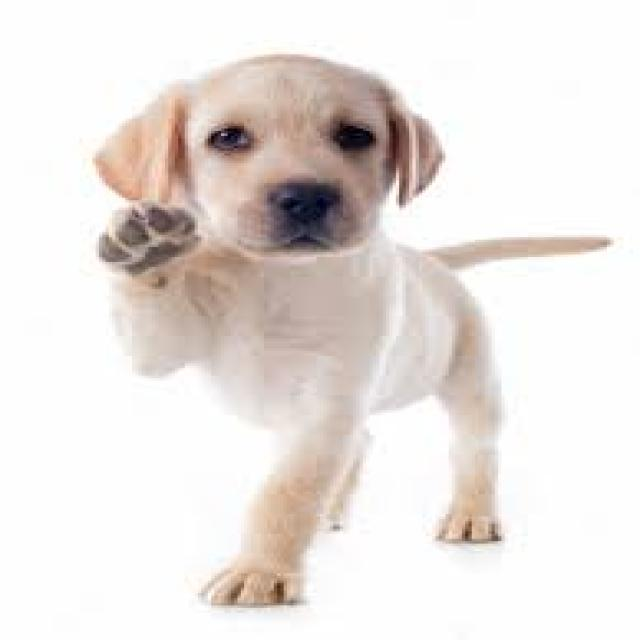Abrador: (95, 54, 613, 606)
